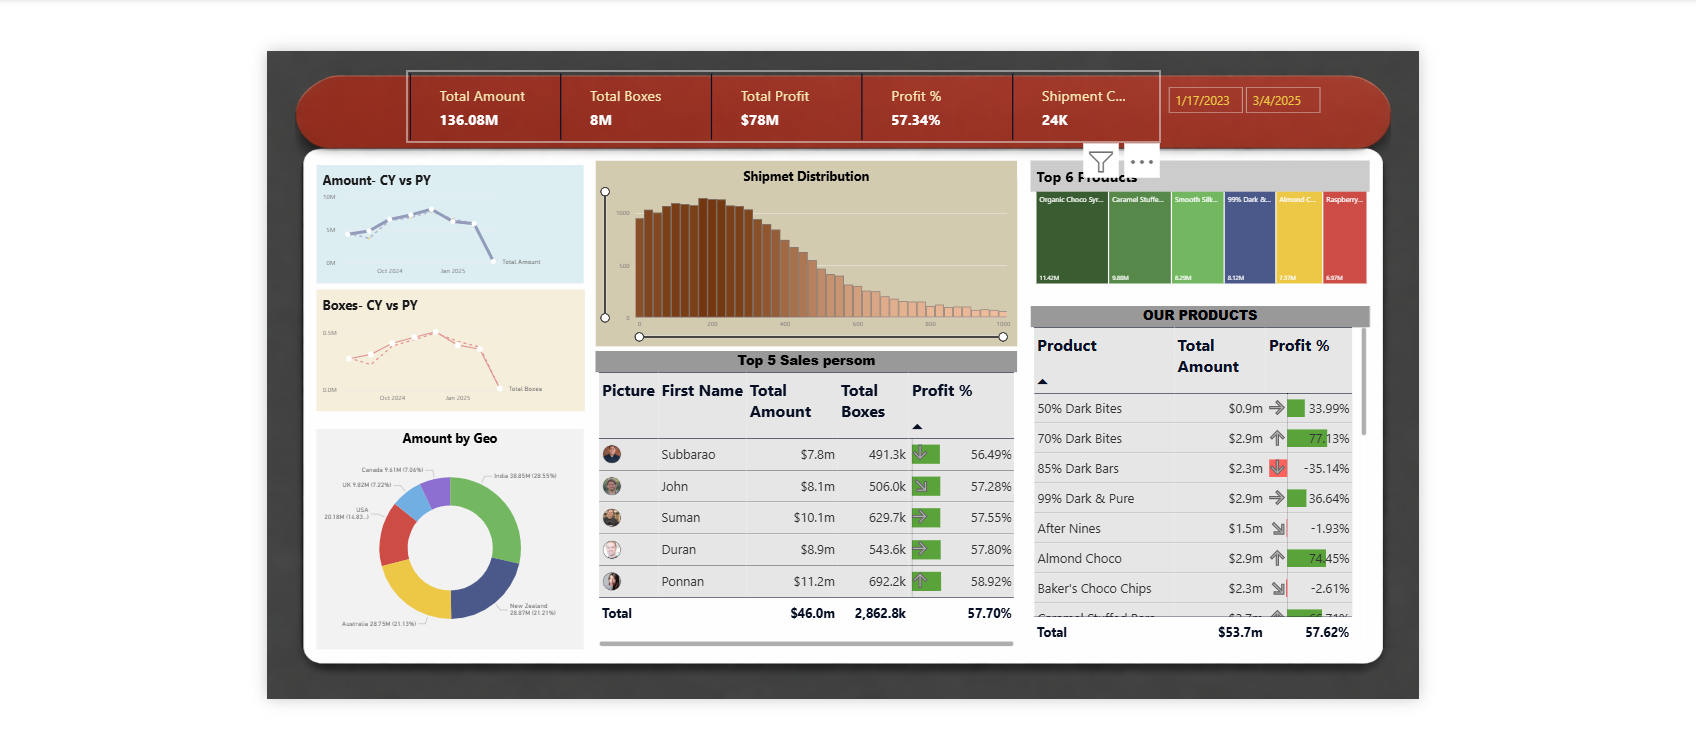

This screenshot's page, from the dashboard's own definition file:
{"tool":"powerbi","page":{"name":"R","canvas":[1920,1080],"ordinal":0},"visuals":[{"type":"lineChart","title":"Amount- CY vs PY","fields":{"Y":["shipments.Total Amount","products.Total Amount(Last Year)"],"Category":["calendar.Start of the Month"]},"box":[82.5,190,445,197.5],"z":0},{"type":"lineChart","title":"Boxes- CY vs PY","fields":{"Category":["calendar.Start of the Month"],"Y":["shipments.Total Boxes","shipments.Total Boxes(Last Year)"]},"box":[82.5,397.5,447.5,202.5],"z":1000},{"type":"donutChart","title":"Amount by Geo","fields":{"Category":["locations.Geo"],"Y":["shipments.Total Amount"]},"box":[82.5,630,445,367.5],"z":2000},{"type":"columnChart","title":"Shipmet Distribution","fields":{"Y":["shipments.Shipment Count"],"Category":["shipments.Boxes (bins)"]},"box":[547.5,182.5,702.5,310],"z":3000},{"type":"tableEx","title":"Top 5 Sales persom","fields":{"Values":["people.Picture","people.First Name","shipments.Total Amount","shipments.Total Boxes","shipments.Profit %"]},"box":[547.5,500,702.5,497.5],"z":4000},{"type":"treemap","title":"Top 6 Products","fields":{"Values":["shipments.Total Amount"],"Group":["products.Product"]},"box":[1272.5,182.5,565,215],"z":5000},{"type":"tableEx","title":"OUR PRODUCTS","fields":{"Values":["products.Product","shipments.Total Amount","shipments.Profit %"]},"box":[1272.5,425,565,572.5],"z":6000},{"type":"cardVisual","fields":{"Data":["shipments.Total Amount","shipments.Total Boxes","shipments.Total Profit","shipments.Profit %","shipments.Shipment Count"]},"box":[232.5,32.5,1257.5,120],"z":7000},{"type":"slicer","fields":{"Values":["calendar.cal_date"]},"box":[1490,50,402.5,82.5],"z":8000}]}

Visuals, with their boxes on the page's 1920x1080 design canvas (x1, y1, x2, y2). These are canvas units, not pixel positions in the 1696x739 screenshot, which may show the page scaled, cropped or inside an application window:
"Amount- CY vs PY" lineChart: pyautogui.locateOnScreen(82, 190, 528, 388)
"Boxes- CY vs PY" lineChart: pyautogui.locateOnScreen(82, 398, 530, 600)
"Amount by Geo" donutChart: pyautogui.locateOnScreen(82, 630, 528, 998)
"Shipmet Distribution" columnChart: pyautogui.locateOnScreen(548, 182, 1250, 492)
"Top 5 Sales persom" tableEx: pyautogui.locateOnScreen(548, 500, 1250, 998)
"Top 6 Products" treemap: pyautogui.locateOnScreen(1272, 182, 1838, 398)
"OUR PRODUCTS" tableEx: pyautogui.locateOnScreen(1272, 425, 1838, 998)
cardVisual - shipments.Total Amount x shipments.Total Boxes: pyautogui.locateOnScreen(232, 32, 1490, 152)
slicer - calendar.cal_date: pyautogui.locateOnScreen(1490, 50, 1892, 132)
